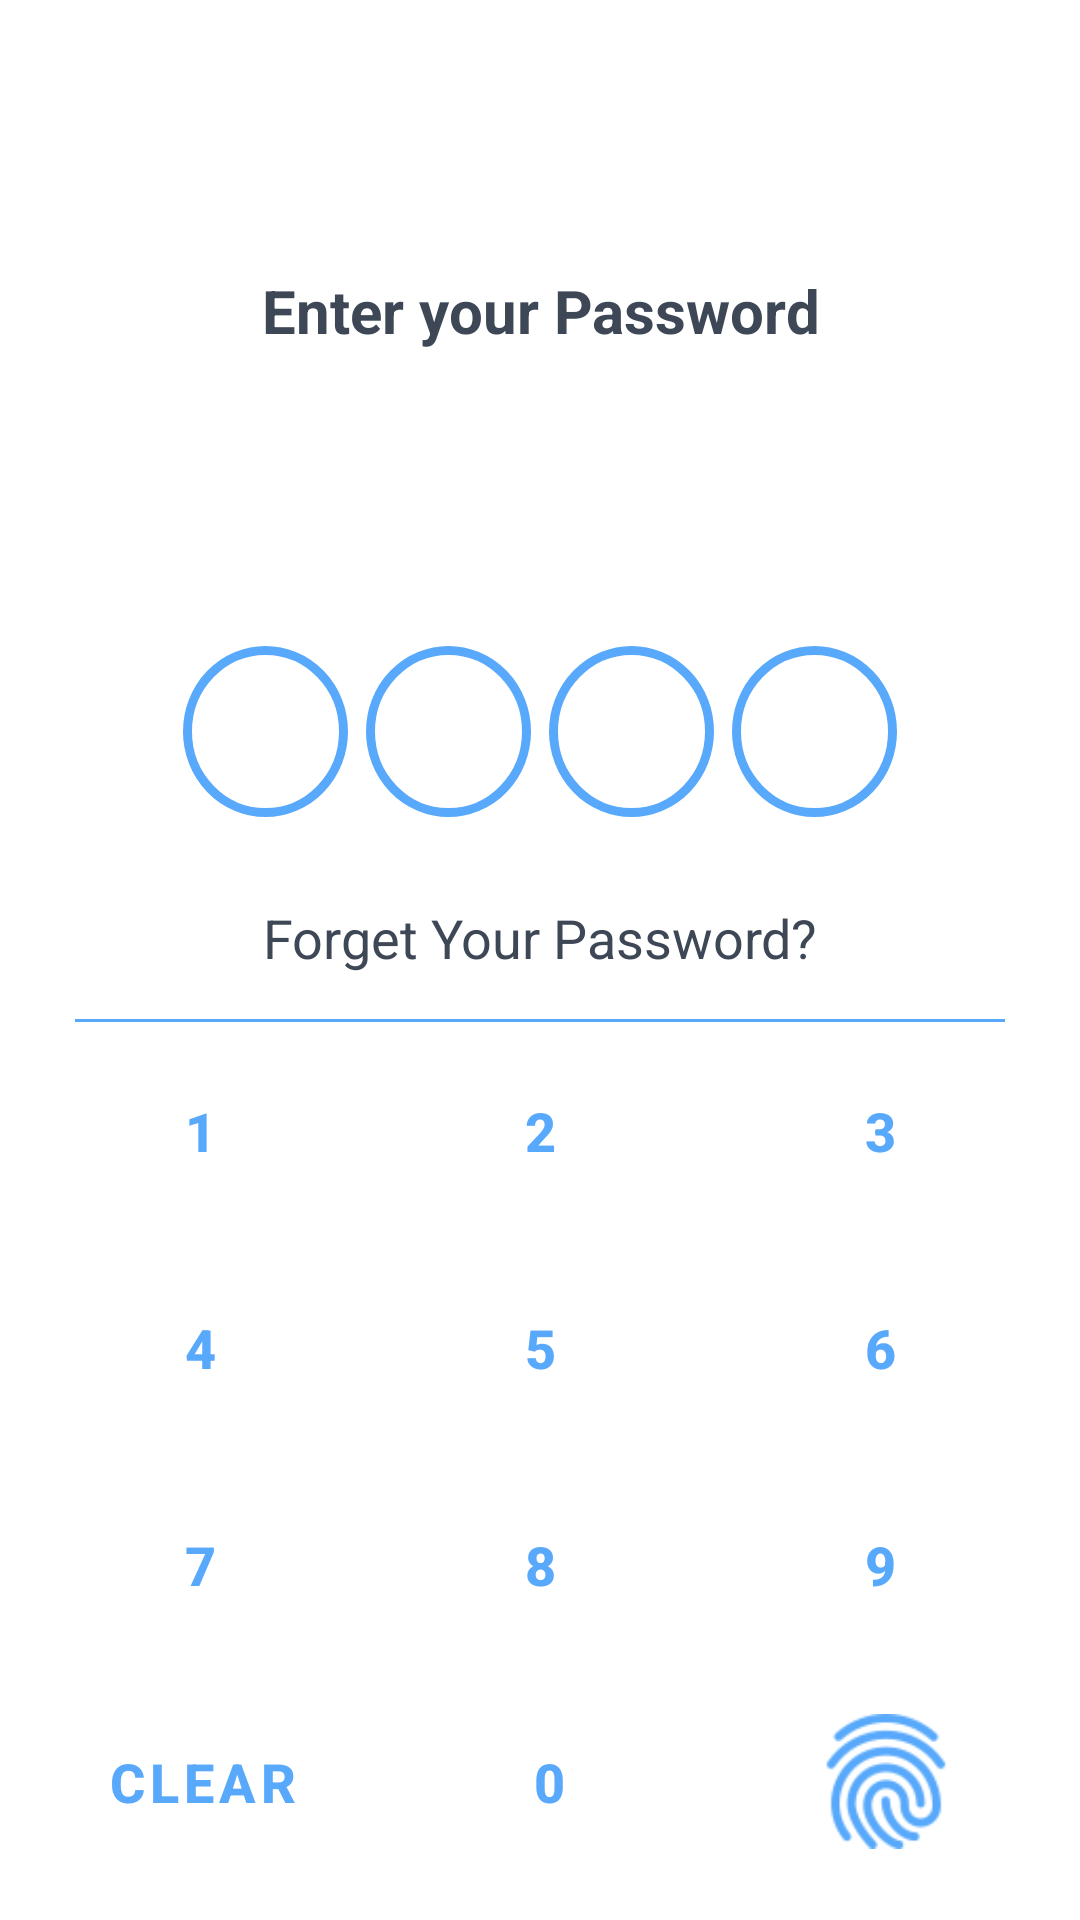

Where to tap for icons on this 1080x1920 app screen, as point (x, y):
fingerprint: point (886, 1781)
